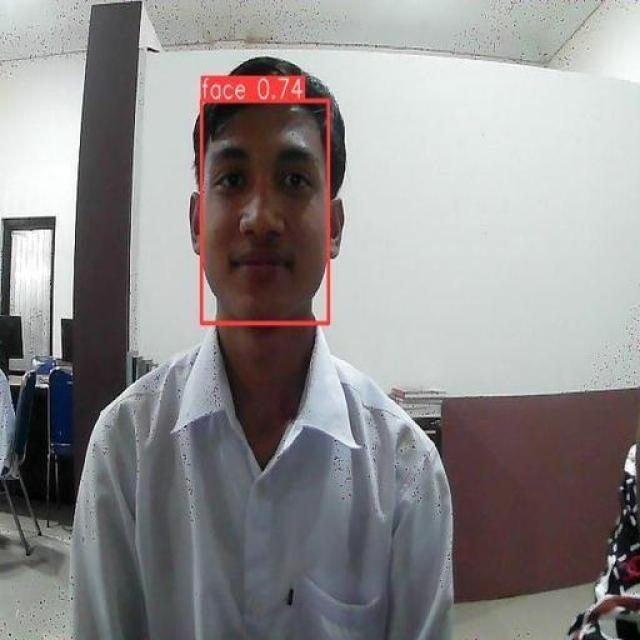bareface: (187, 79, 336, 331)
